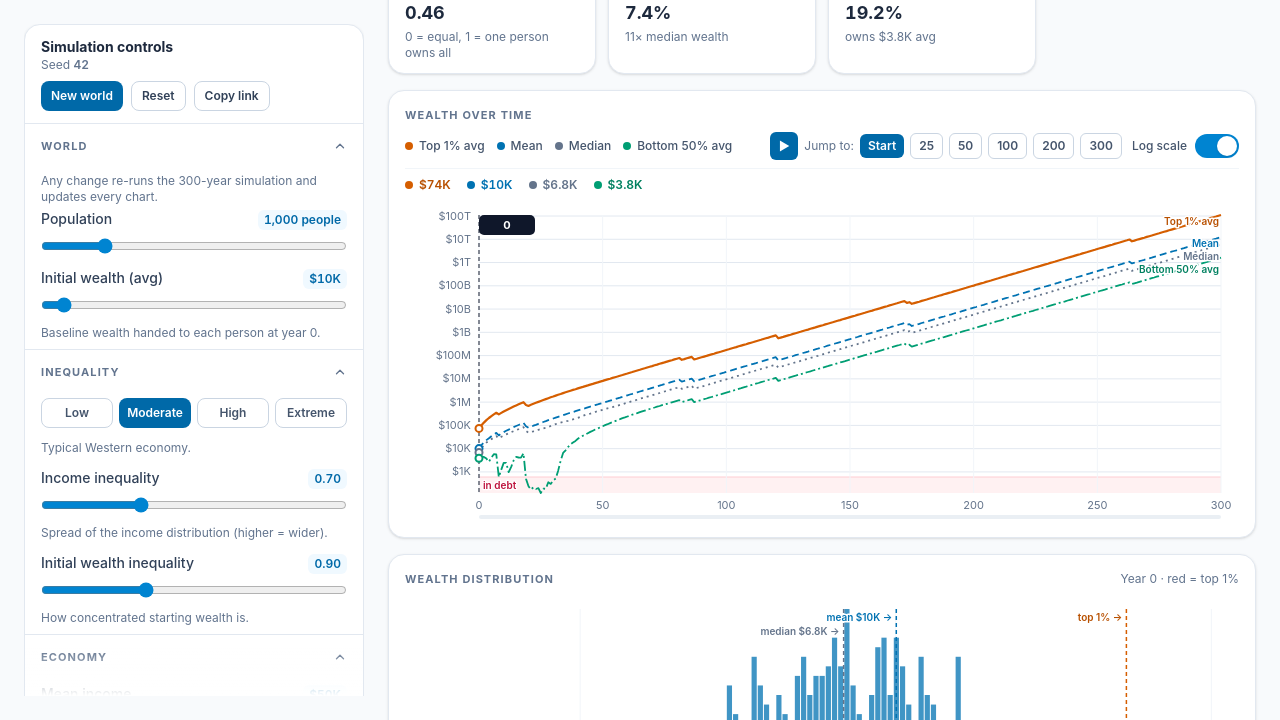
Test case: chart keyboard navigation jumps to the last year
(page scrolled)
Click the slider named "arrow keys" at (822, 360), box [405, 200, 1239, 520]
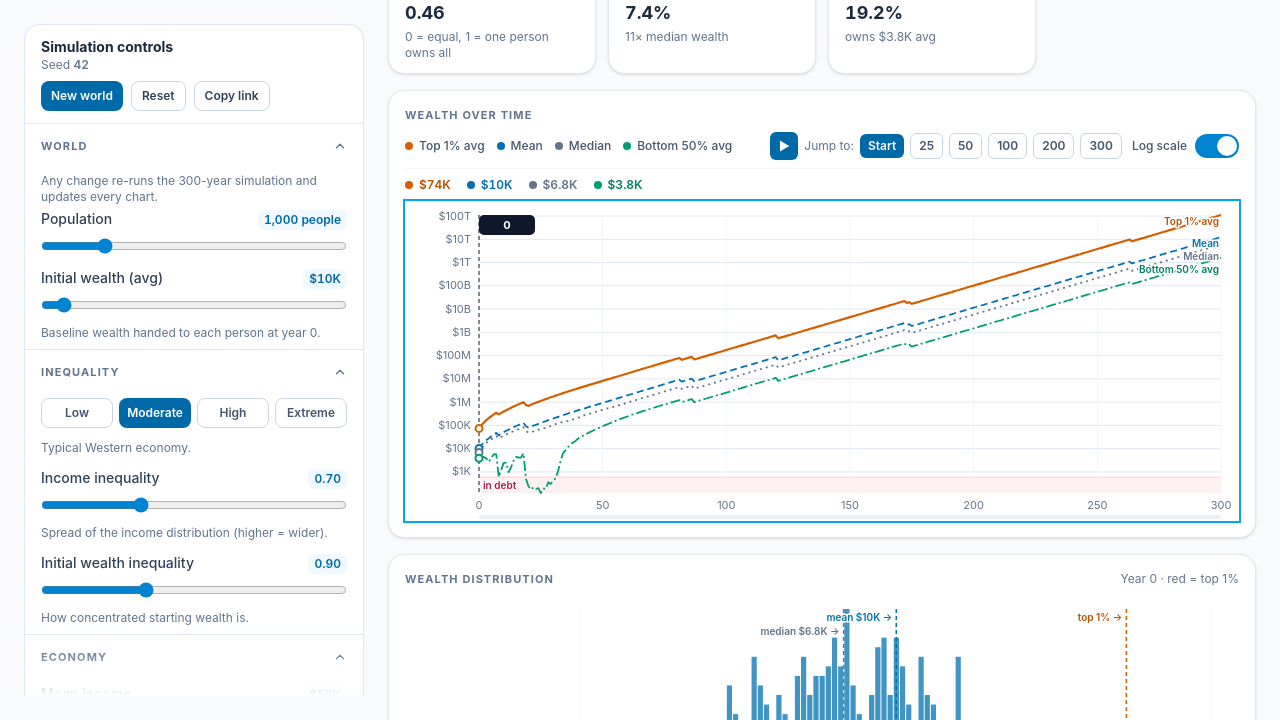
Press End
(page scrolled)
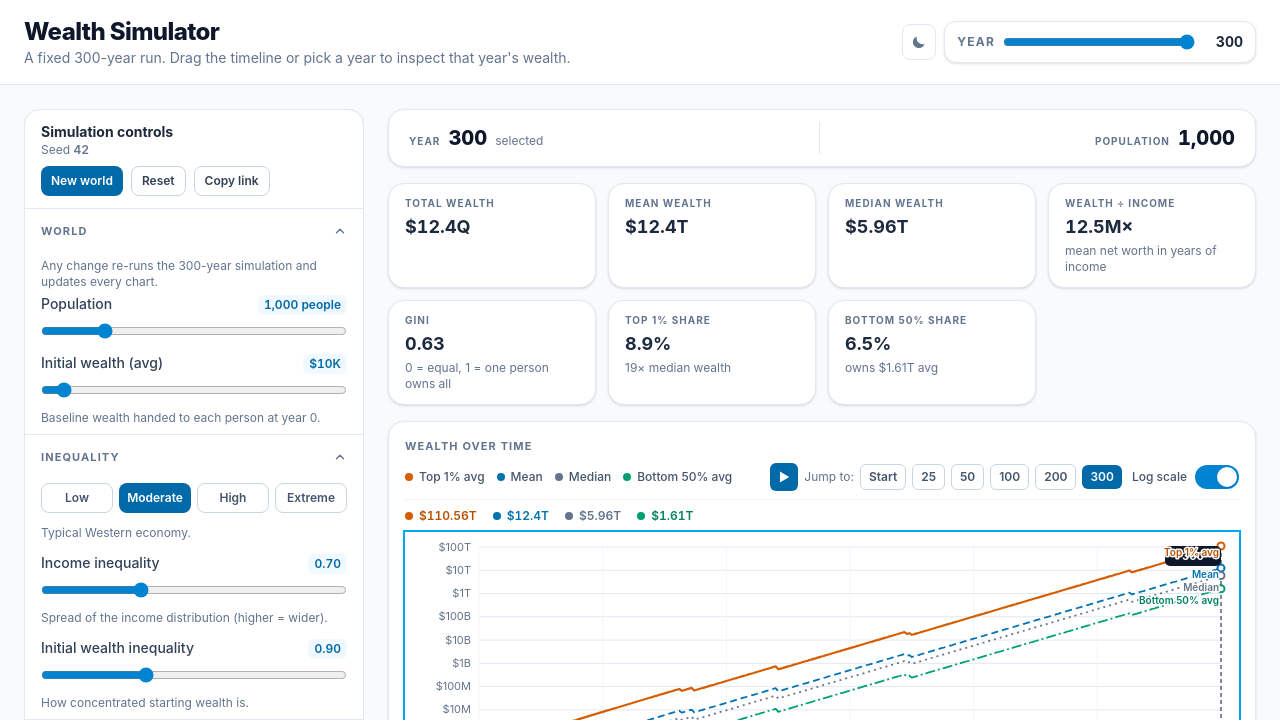
Check: the slider named "Selected year" holds "300", box [1003, 30, 1195, 54]
Press Home
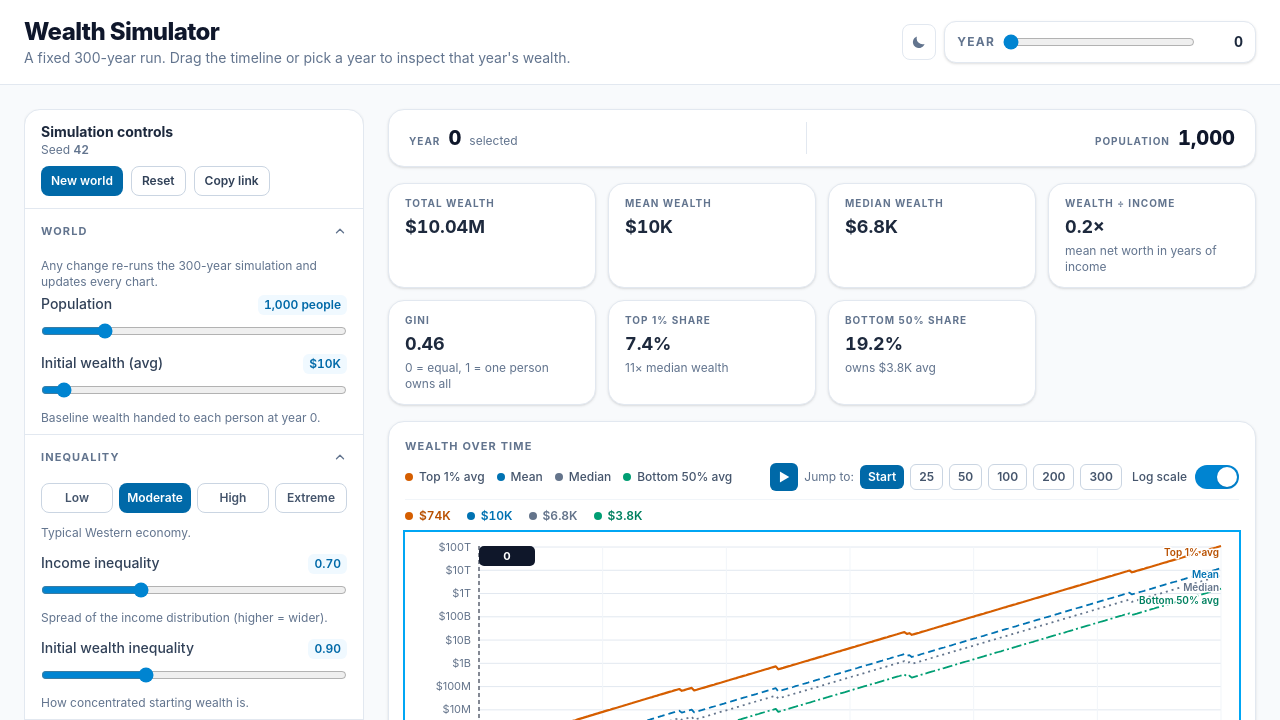
Check: the slider named "Selected year" holds "0", box [1003, 30, 1195, 54]
